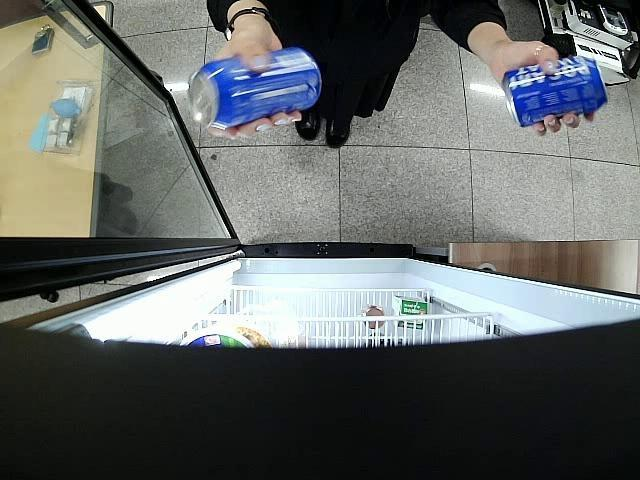13_pocariSweat: (188, 46, 323, 128), (499, 56, 608, 128)
